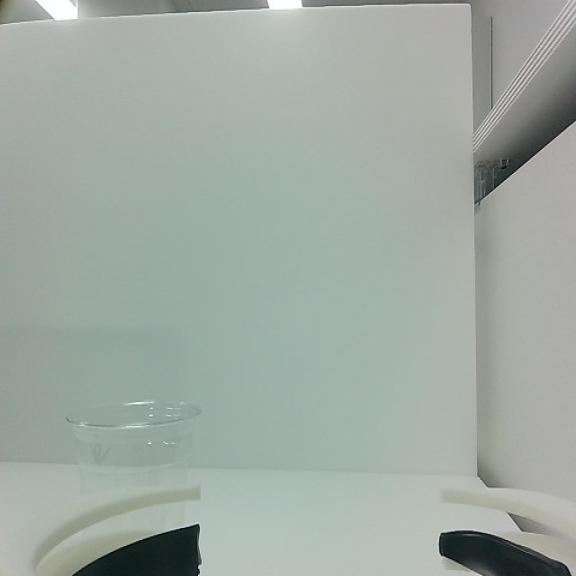Plastik: (63, 396, 204, 499)
